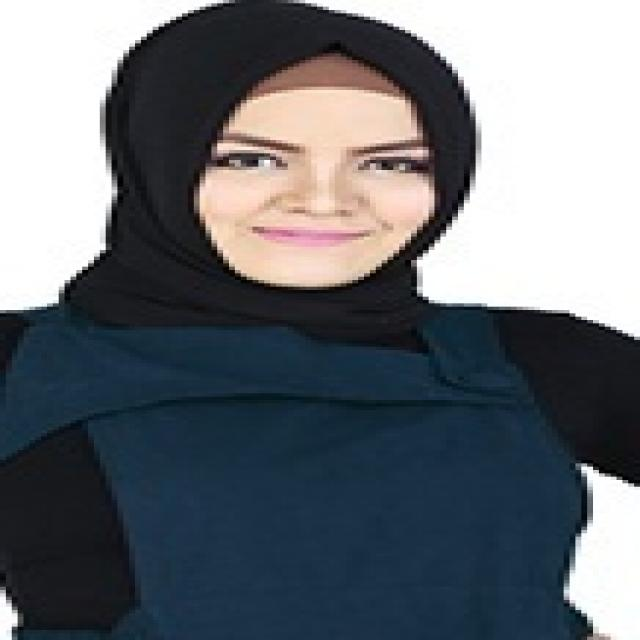head: (143, 28, 478, 300)
